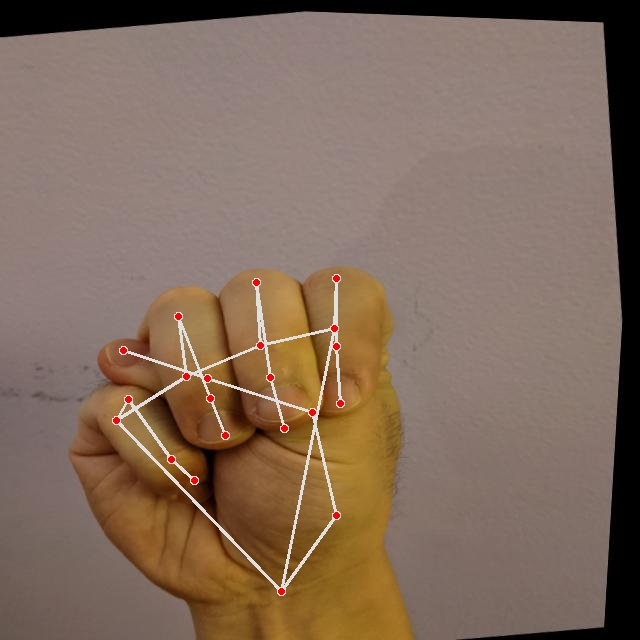M: (33, 236, 450, 629)
